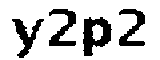2: (113, 5, 147, 51), (47, 7, 76, 53)
p: (80, 16, 116, 60)
y: (10, 16, 43, 59)
